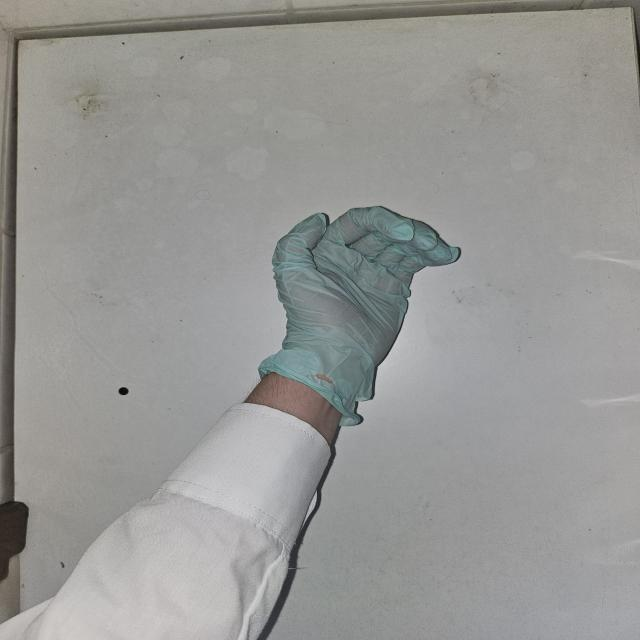gloves_damaged: (255, 204, 462, 427)
